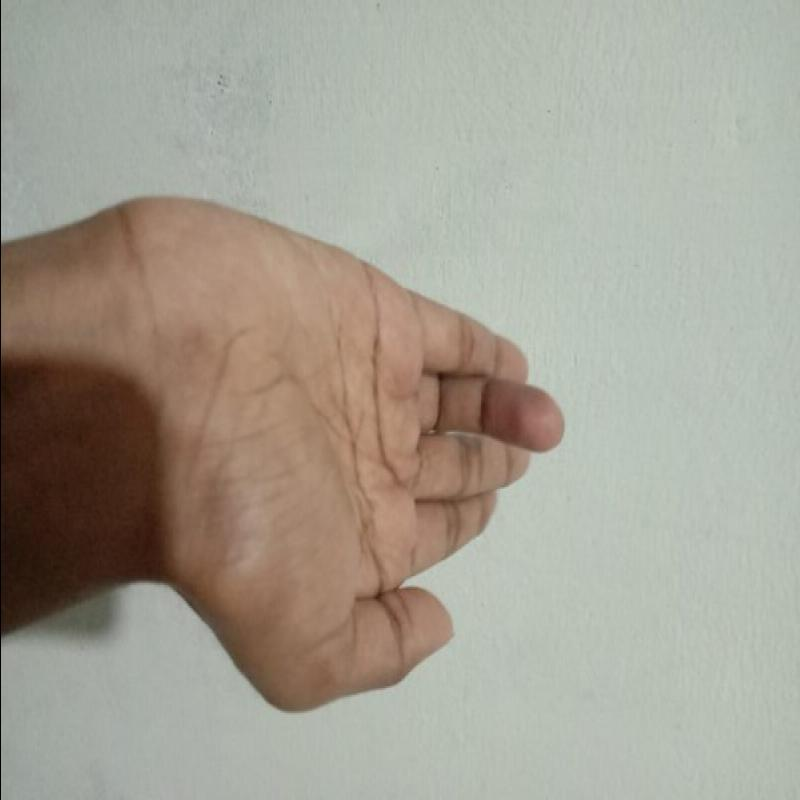Pathaaka: (91, 161, 595, 723)
